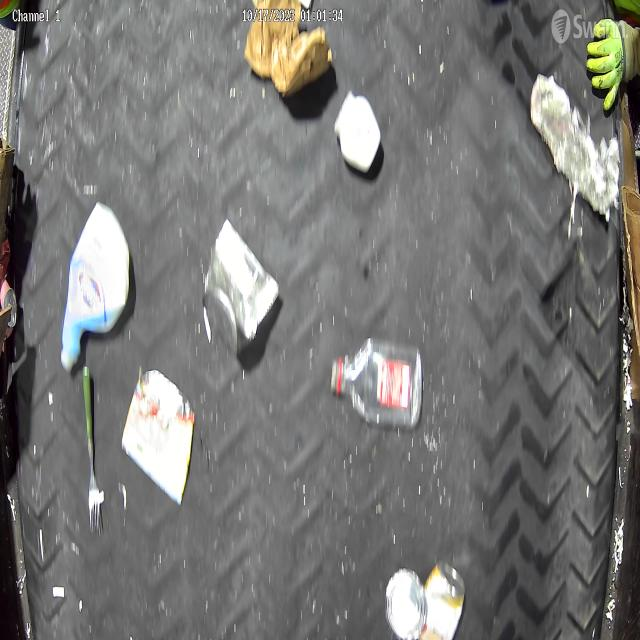can: (200, 217, 279, 359), (419, 559, 467, 640), (383, 566, 428, 640)
non_white_jug: (62, 199, 132, 373)
plastic_bottle: (331, 338, 423, 428)
